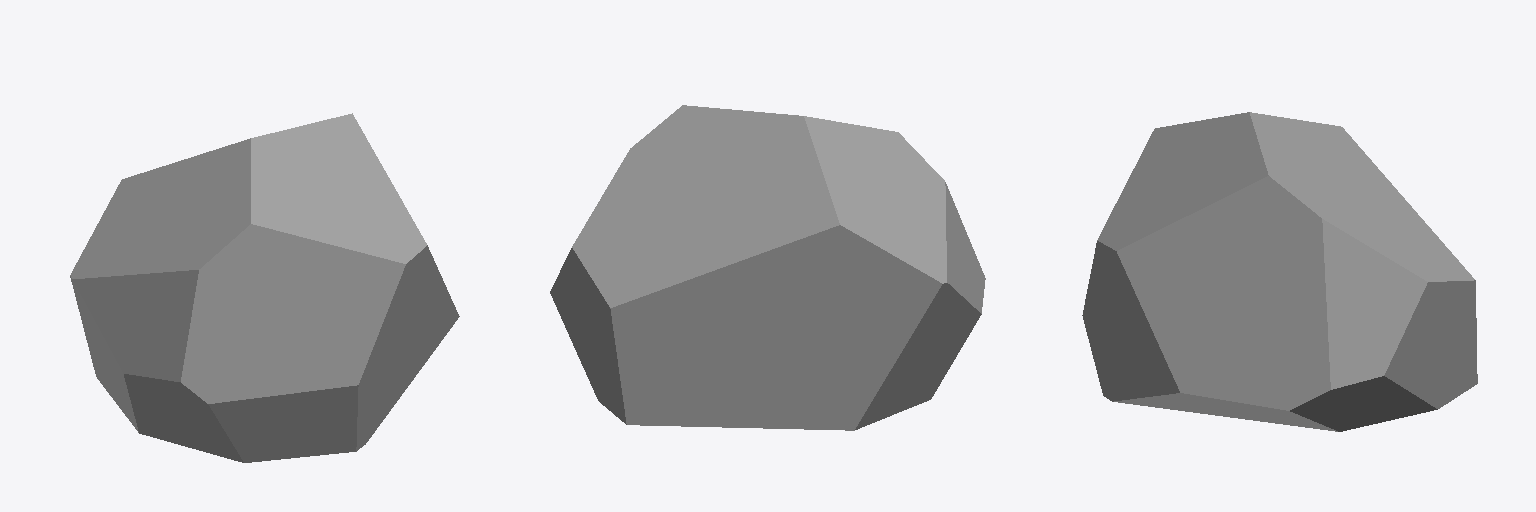
The model's file is rock8.obj.
The picture shows the model from 3 angles: view 1: azimuth 30°, elevation 25°; view 2: azimuth 150°, elevation 25°; view 3: azimuth 270°, elevation 25°; orthographic projection.
Parts seen in each view (by area): view 1: Rock_Type2_04_mesh_Cube.009; view 2: Rock_Type2_04_mesh_Cube.009; view 3: Rock_Type2_04_mesh_Cube.009.
Part boxes in pixels (left/top/right/bottom): Rock_Type2_04_mesh_Cube.009: left=70, top=113, right=459, bottom=462; Rock_Type2_04_mesh_Cube.009: left=550, top=105, right=985, bottom=430; Rock_Type2_04_mesh_Cube.009: left=1082, top=112, right=1477, bottom=431.
Size of the model in its own units: 0.8101 by 0.5717 by 0.7651.